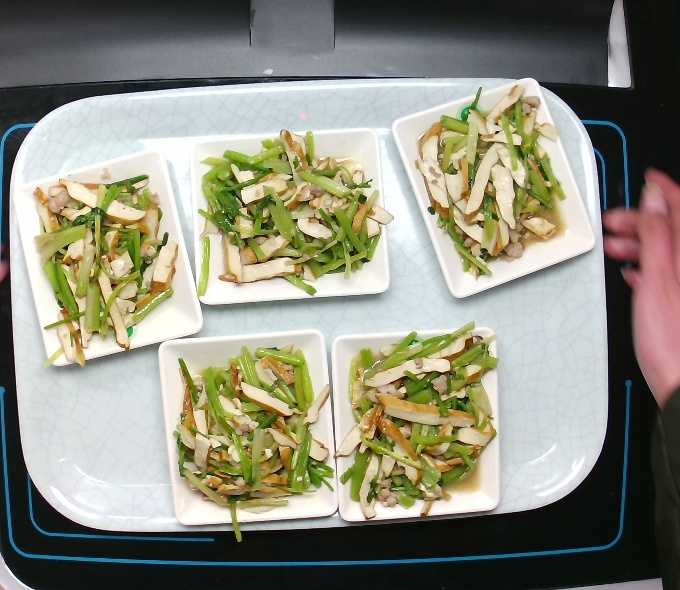wcq-XiangGanQinCai: (190, 124, 401, 302), (331, 318, 502, 523), (173, 337, 337, 543), (411, 77, 573, 284), (29, 164, 181, 373)
